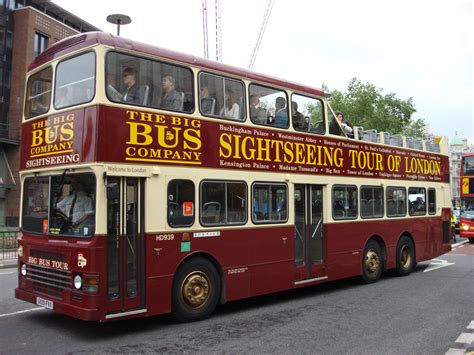bus: (23, 46, 452, 317)
